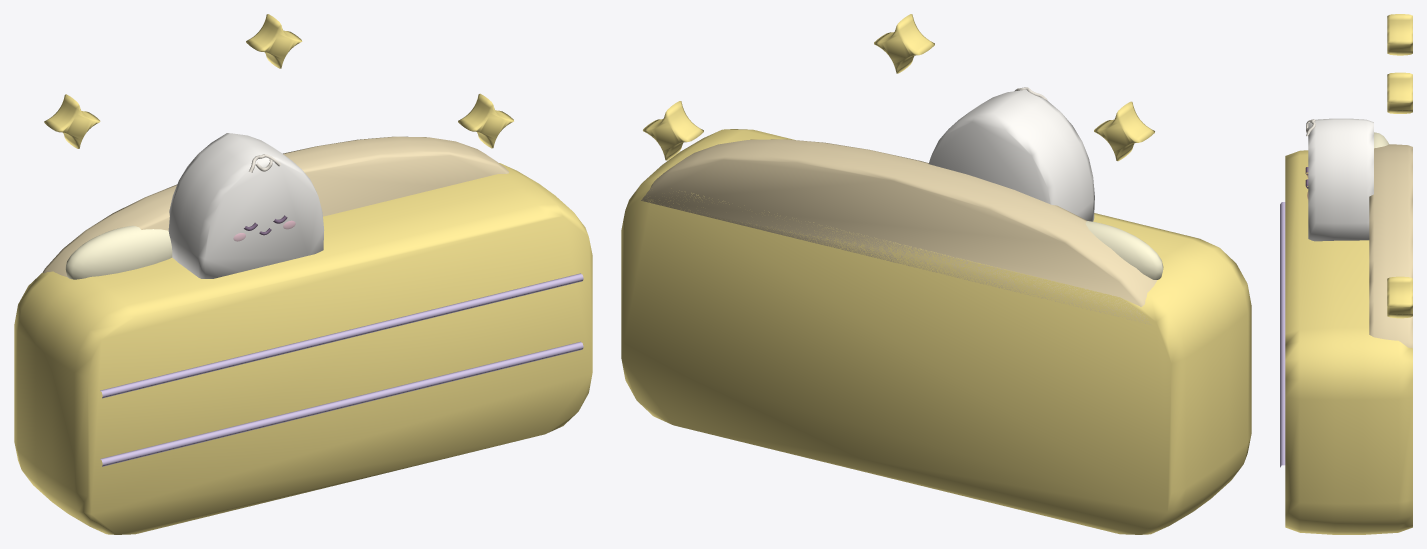
File: decor_1_star.glb
3 renders of one model, left to right at view 1: azimuth 30°, elevation 25°; view 2: azimuth 150°, elevation 25°; view 3: azimuth 270°, elevation 25°, orthographic. The views are drawn at different scales.
Parts seen in each view (by area): view 1: decor_1_star; view 2: decor_1_star; view 3: decor_1_star.
Boxes of the visible parts, x1,y1,x2,y2 form: decor_1_star: (14,14,592,534); decor_1_star: (621,14,1251,534); decor_1_star: (1280,14,1412,534).
Bounding box in the file's own units: 17.49 × 13.71 × 4.46.
